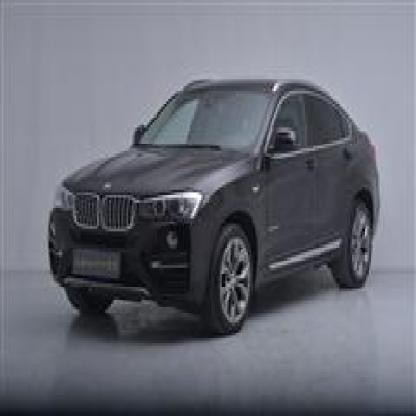Car: (49, 65, 390, 328)
